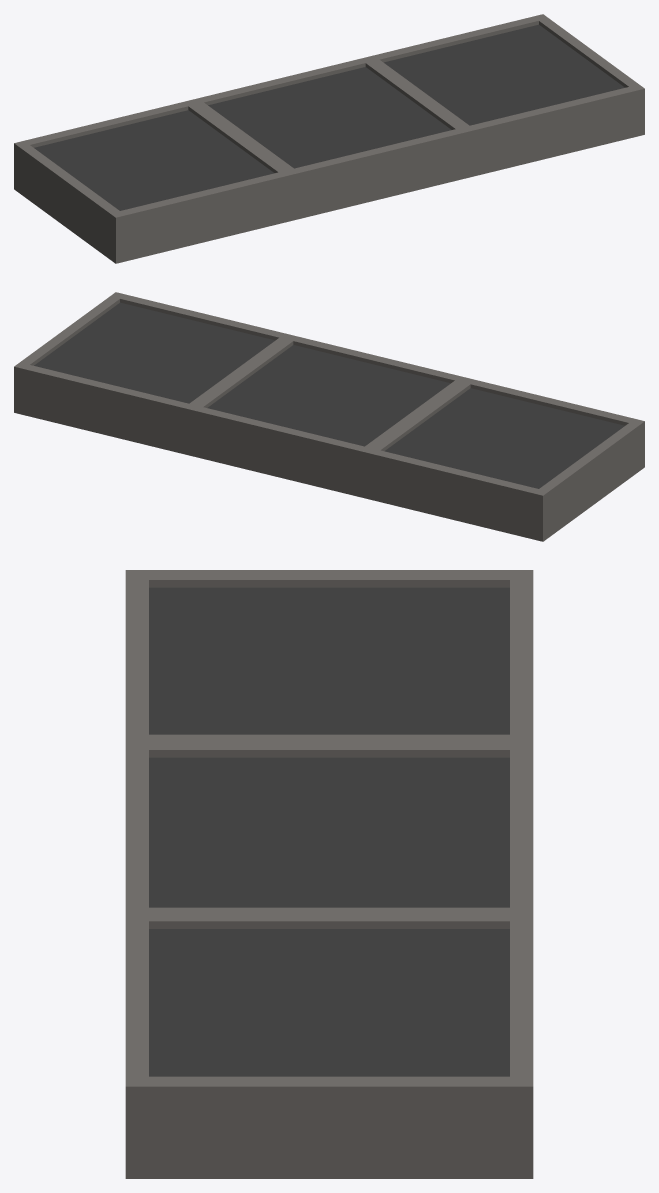
The model's file is HousePart_04.fbx.
3 renders of one model, top to bottom at view 1: azimuth 30°, elevation 25°; view 2: azimuth 150°, elevation 25°; view 3: azimuth 270°, elevation 25°, orthographic. The views are drawn at different scales.
Visible parts, largest first — view 1: HousePart_04; view 2: HousePart_04; view 3: HousePart_04.
Boxes of the visible parts, <box> form: HousePart_04: <box>14,14,644,263</box>; HousePart_04: <box>14,292,644,541</box>; HousePart_04: <box>125,570,533,1178</box>.
Bounding box in the file's own units: 3.08 × 0.2567 × 1.03.
